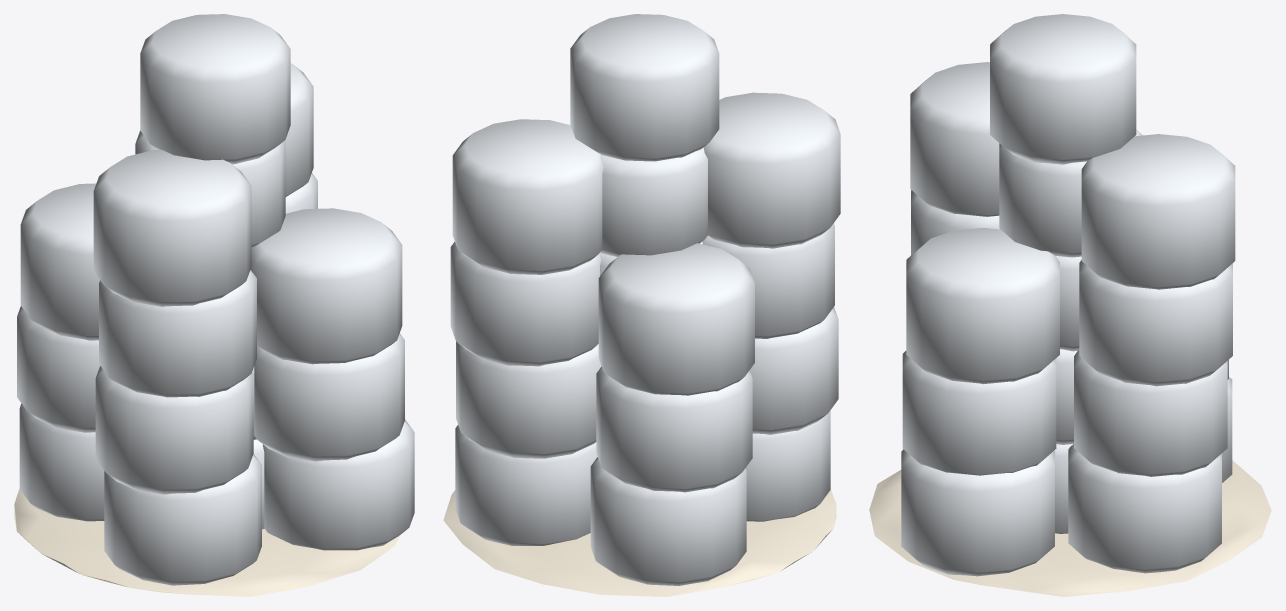
File: MarshmallowStack.fbx
The picture shows the model from 3 angles, left to right: view 1: azimuth 30°, elevation 25°; view 2: azimuth 150°, elevation 25°; view 3: azimuth 270°, elevation 25°; orthographic projection.
Parts seen in each view (by area): view 1: MarshmallowStack; view 2: MarshmallowStack; view 3: MarshmallowStack.
Boxes of the visible parts, x1,y1,x2,y2 form: MarshmallowStack: (14, 14, 414, 596); MarshmallowStack: (443, 14, 840, 596); MarshmallowStack: (869, 14, 1271, 596).
Size of the model in its own units: 1.7 by 2.22 by 1.72.
Materials: 2 (2 with a texture image).
